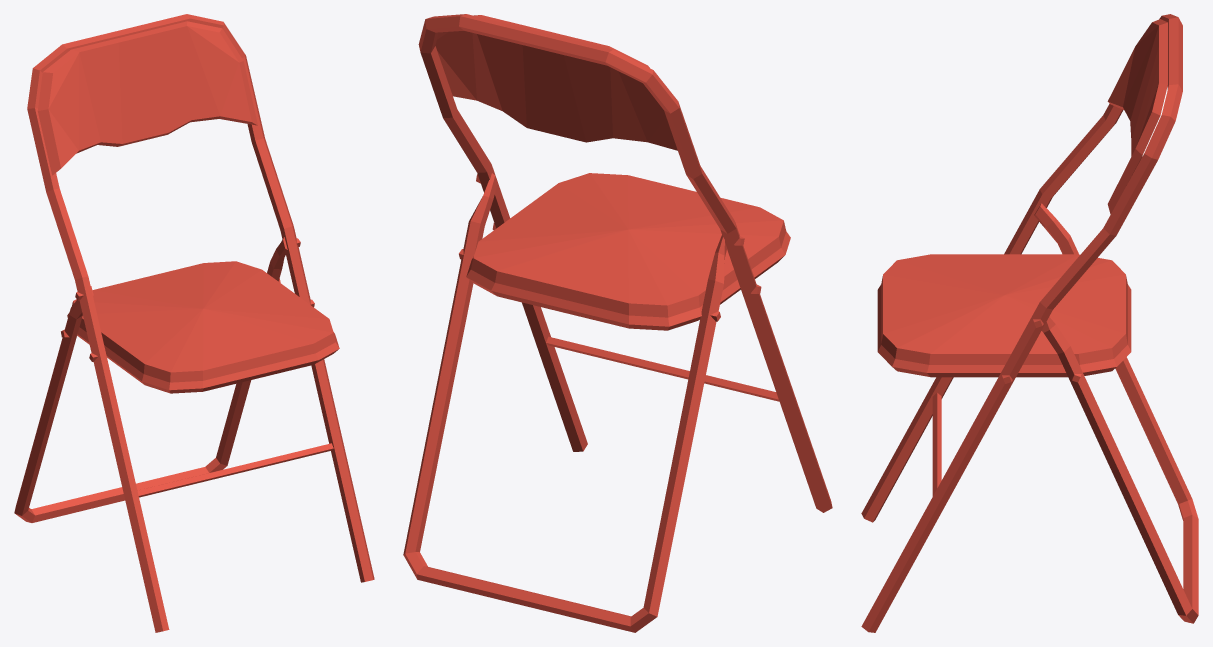
File: SM_Chair_Steel_Movie.fbx
3 renders of one model, left to right at view 1: azimuth 30°, elevation 25°; view 2: azimuth 150°, elevation 25°; view 3: azimuth 270°, elevation 25°, orthographic. The views are drawn at different scales.
Parts seen in each view (by area): view 1: SM_Chair_Steel_Movie; view 2: SM_Chair_Steel_Movie; view 3: SM_Chair_Steel_Movie.
Part boxes in pixels (left/top/right/bottom): SM_Chair_Steel_Movie: left=14, top=14, right=374, bottom=632; SM_Chair_Steel_Movie: left=403, top=14, right=832, bottom=632; SM_Chair_Steel_Movie: left=861, top=14, right=1198, bottom=632.
Size of the model in its own units: 53.1 by 44.47 by 91.34.
